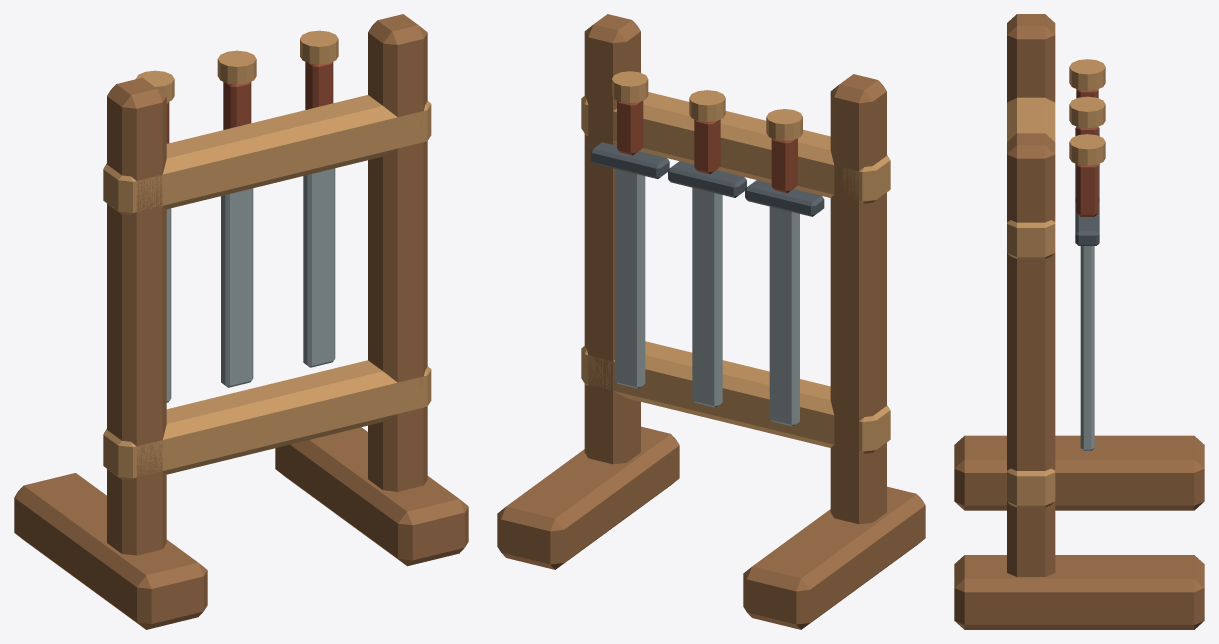
Rendered from smith_rack.glb.
3 views of the same model, side by side, from view 1: azimuth 30°, elevation 25°; view 2: azimuth 150°, elevation 25°; view 3: azimuth 270°, elevation 25° (orthographic). The views are drawn at different scales.
Parts seen in each view (by area): view 1: smith_rack; view 2: smith_rack; view 3: smith_rack.
Part boxes in pixels (x1=…): smith_rack: x1=14, y1=14, x2=468, y2=629; smith_rack: x1=497, y1=14, x2=925, y2=629; smith_rack: x1=954, y1=14, x2=1204, y2=629.
Bounding box in the file's own units: 0.89 × 1.31 × 0.62.
